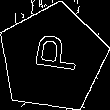P_W: (25, 36, 80, 80)
